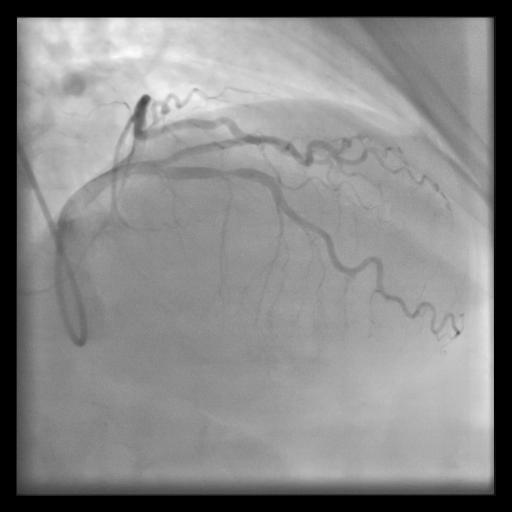Stenosis: (215, 163, 238, 182)
